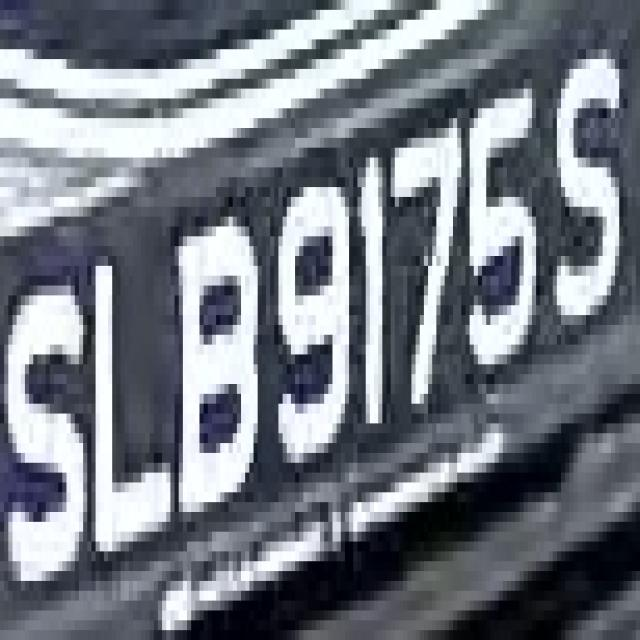1: (357, 138, 395, 492)
5: (461, 59, 532, 394)
7: (399, 79, 474, 433)
9: (262, 168, 357, 472)
B: (170, 177, 262, 512)
L: (87, 217, 179, 581)
S: (13, 236, 83, 630), (553, 49, 636, 345)
